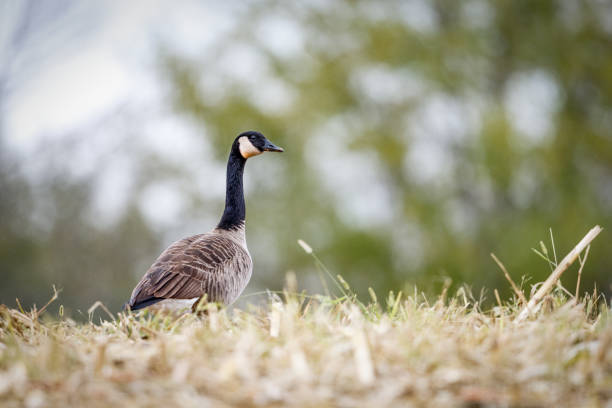goose: (120, 131, 286, 322)
